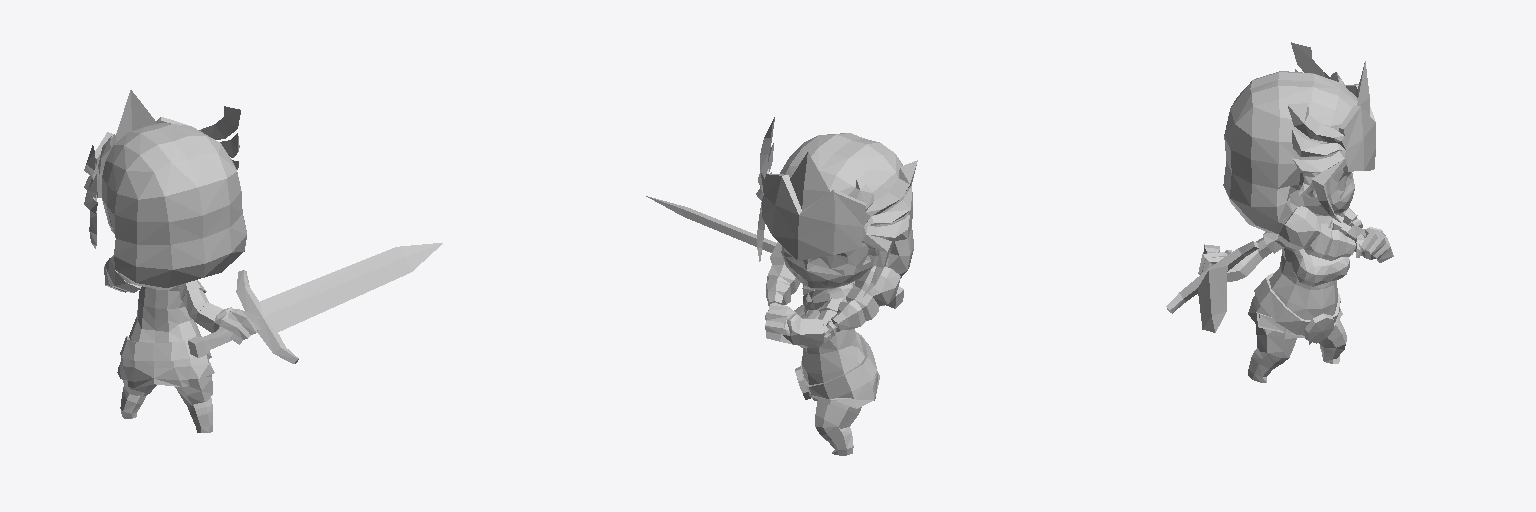
The model's file is Dash(20).obj.
3 views of the same model, side by side, from view 1: azimuth 30°, elevation 25°; view 2: azimuth 150°, elevation 25°; view 3: azimuth 270°, elevation 25° (orthographic).
Visible parts, largest first — view 1: EQUIP_HAIR_BODY_LOD120, sword1_LOD2, EQUIP_FEET_WORRIER2_LOD120, EQUIP_UPPER_WORRIER2_LOD120, EQUIP_CAP_WORRIER2_LOD120, EQUIP_GLOVES_WORRIER2_LOD120; view 2: EQUIP_CAP_WORRIER2_LOD120, EQUIP_HAIR_BODY_LOD120, EQUIP_FEET_WORRIER2_LOD120, EQUIP_UPPER_WORRIER2_LOD120, EQUIP_FACE_BODY_LOD120, EQUIP_GLOVES_WORRIER2_LOD120, sword1_LOD2; view 3: EQUIP_HAIR_BODY_LOD120, EQUIP_CAP_WORRIER2_LOD120, EQUIP_UPPER_WORRIER2_LOD120, EQUIP_FEET_WORRIER2_LOD120, sword1_LOD2, EQUIP_GLOVES_WORRIER2_LOD120, EQUIP_FACE_BODY_LOD120.
Part boxes in pixels (left/top/right/bottom): EQUIP_HAIR_BODY_LOD120: left=98, top=123, right=246, bottom=292; sword1_LOD2: left=188, top=243, right=442, bottom=363; EQUIP_FEET_WORRIER2_LOD120: left=117, top=336, right=214, bottom=432; EQUIP_UPPER_WORRIER2_LOD120: left=129, top=280, right=208, bottom=342; EQUIP_CAP_WORRIER2_LOD120: left=84, top=90, right=240, bottom=248; EQUIP_GLOVES_WORRIER2_LOD120: left=195, top=302, right=261, bottom=344; EQUIP_CAP_WORRIER2_LOD120: left=756, top=117, right=917, bottom=296; EQUIP_HAIR_BODY_LOD120: left=766, top=133, right=913, bottom=337; EQUIP_FEET_WORRIER2_LOD120: left=801, top=331, right=879, bottom=455; EQUIP_UPPER_WORRIER2_LOD120: left=794, top=282, right=864, bottom=399; EQUIP_FACE_BODY_LOD120: left=781, top=243, right=890, bottom=289; EQUIP_GLOVES_WORRIER2_LOD120: left=765, top=281, right=854, bottom=344; sword1_LOD2: left=646, top=196, right=903, bottom=308; EQUIP_HAIR_BODY_LOD120: left=1223, top=71, right=1362, bottom=260; EQUIP_CAP_WORRIER2_LOD120: left=1287, top=42, right=1375, bottom=222; EQUIP_UPPER_WORRIER2_LOD120: left=1256, top=215, right=1350, bottom=343; EQUIP_FEET_WORRIER2_LOD120: left=1248, top=273, right=1346, bottom=382; sword1_LOD2: left=1166, top=241, right=1258, bottom=332; EQUIP_GLOVES_WORRIER2_LOD120: left=1198, top=225, right=1393, bottom=281; EQUIP_FACE_BODY_LOD120: left=1289, top=169, right=1354, bottom=215.
Bounding box in the file's own units: 1.85 × 1.76 × 1.17.